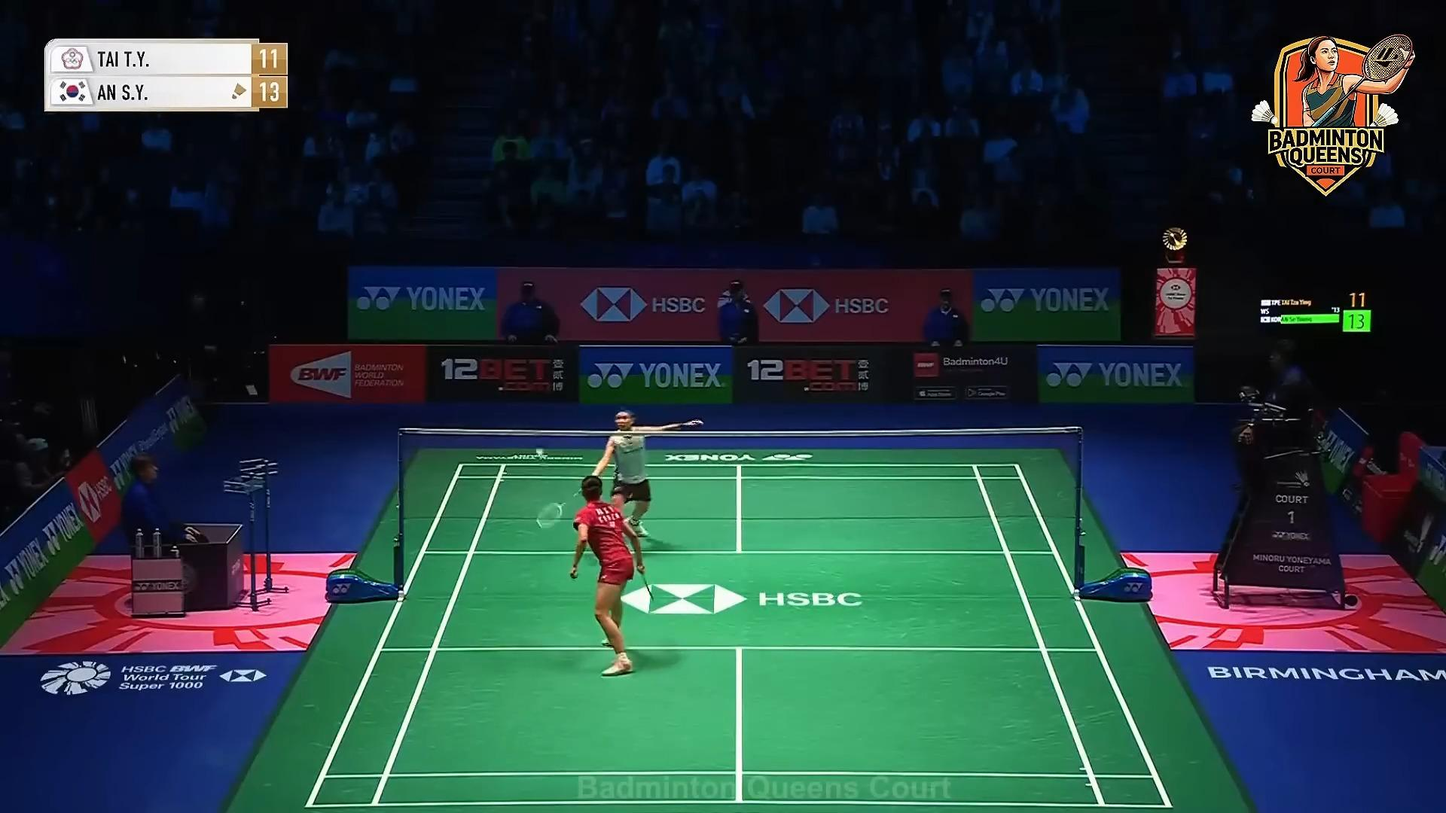shuttlecock: (535, 446, 545, 459)
